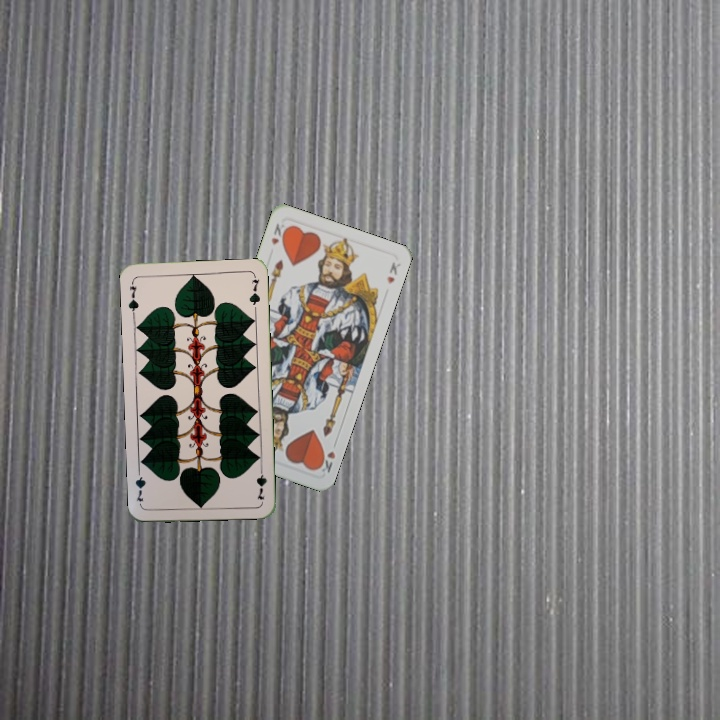G7: (252, 462, 269, 502), (124, 278, 141, 318)
HK: (314, 437, 340, 475), (267, 219, 290, 247)
